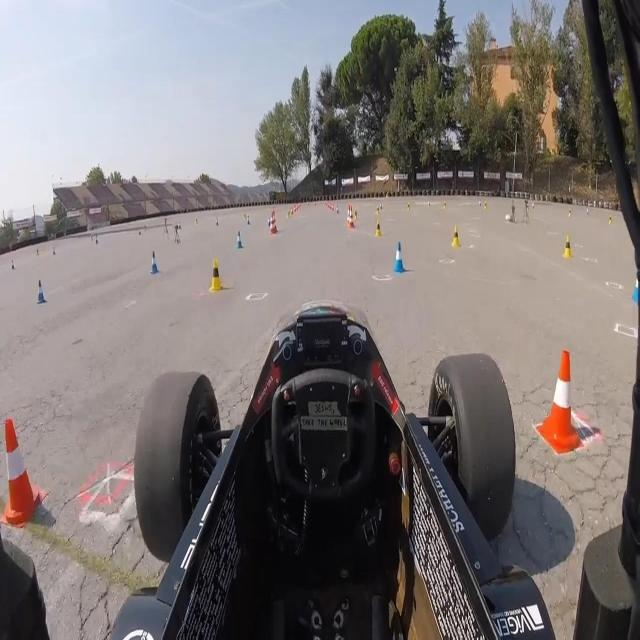blue_cone: (387, 235, 409, 285), (146, 247, 163, 279), (35, 277, 49, 309), (233, 227, 247, 254)
large_orange_cone: (349, 206, 355, 228), (347, 205, 352, 228), (272, 210, 277, 232), (270, 211, 274, 234)
orange_cone: (534, 342, 584, 464), (0, 404, 44, 525)
yellow_cone: (446, 216, 464, 260), (208, 254, 225, 298), (559, 232, 574, 258), (375, 219, 381, 240)
